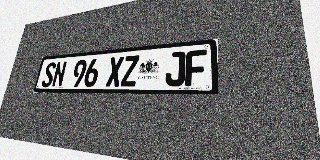6: (83, 58, 100, 87)
9: (71, 59, 88, 87)
F: (185, 49, 206, 86)
J: (165, 51, 186, 86)
N: (51, 61, 67, 87)
S: (41, 62, 57, 87)
X: (105, 56, 124, 87)
Z: (120, 55, 140, 87)
